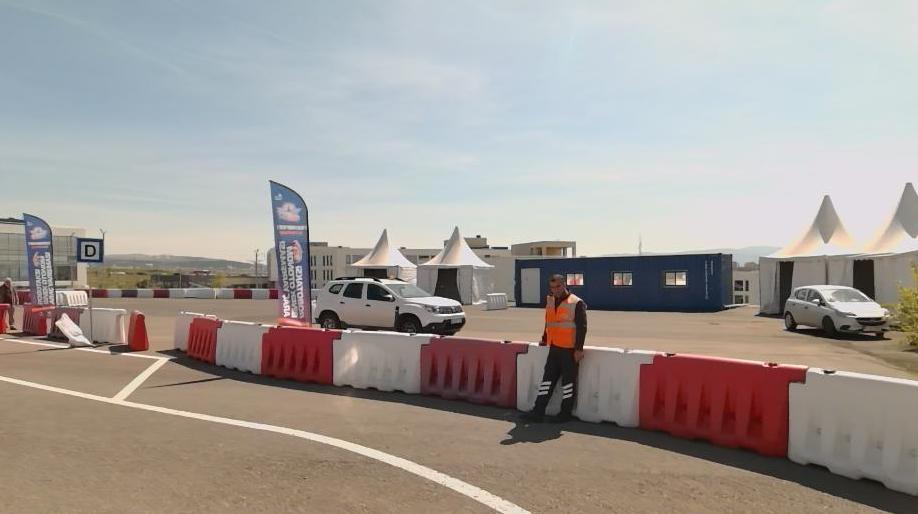nesne: (0, 375, 534, 513), (1, 374, 533, 512), (639, 352, 805, 458), (787, 366, 916, 488), (1, 336, 166, 404), (2, 336, 169, 399), (520, 273, 587, 420), (313, 275, 466, 334), (419, 334, 527, 407), (783, 283, 891, 340), (332, 329, 429, 392), (576, 346, 651, 426), (261, 327, 341, 382), (214, 320, 270, 372), (517, 341, 547, 408), (79, 308, 126, 343), (174, 311, 217, 349), (187, 317, 219, 362), (0, 279, 19, 330), (126, 309, 149, 350), (20, 305, 48, 335), (75, 236, 104, 260), (486, 288, 510, 312)
